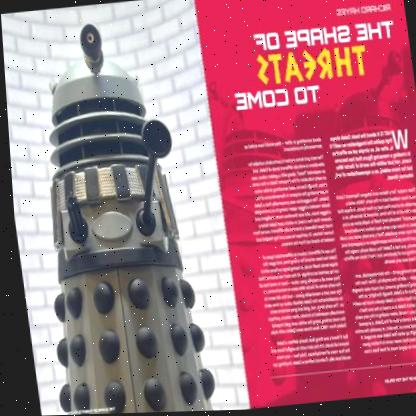dalek: (1, 8, 231, 416)
